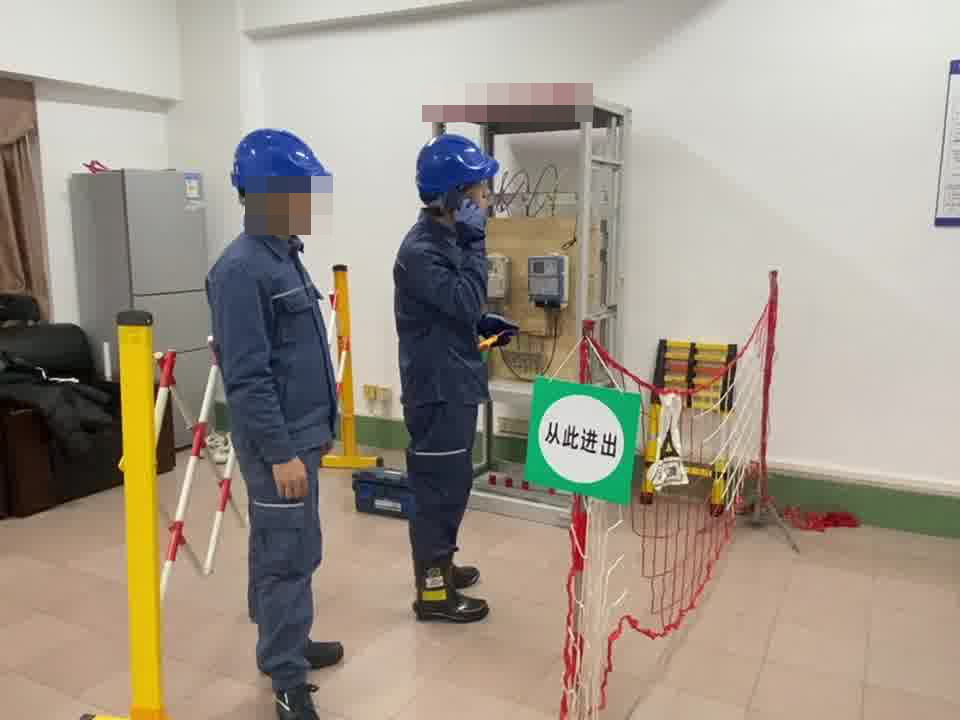downsuit: (238, 457, 326, 697), (400, 404, 482, 564)
glove: (450, 198, 491, 242), (481, 313, 518, 352)
halt: (231, 128, 333, 234), (414, 132, 501, 219)
hand: (274, 456, 310, 503)
inear: (253, 181, 294, 224)
intosign: (523, 375, 640, 505)
person: (201, 126, 347, 720), (389, 128, 523, 621)
shoe: (412, 553, 492, 623)
upsuit: (207, 230, 339, 457), (394, 222, 492, 401)
wronghold: (476, 319, 521, 354)
